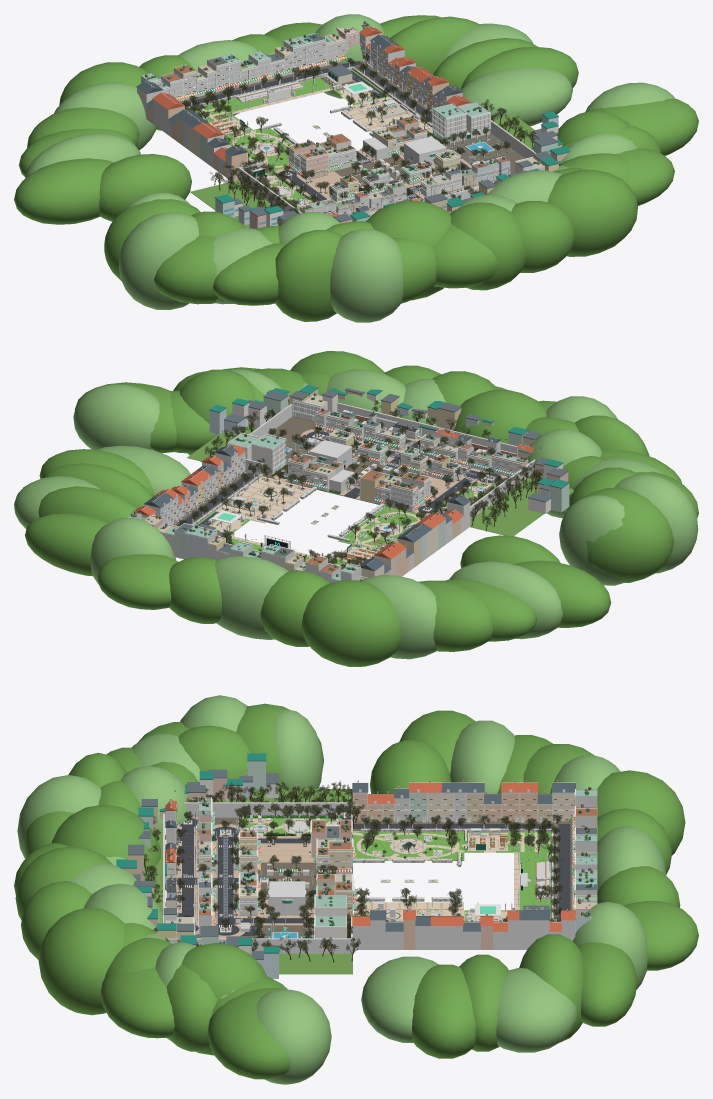
The model's file is town.glb.
3 renders of one model, top to bottom at view 1: azimuth 30°, elevation 25°; view 2: azimuth 150°, elevation 25°; view 3: azimuth 270°, elevation 25°, orthographic. The views are drawn at different scales.
Parts seen in each view (by area): view 1: TOWN_hills, TOWN_trees, TOWN_town_trim, TOWN_v2_pavers__tint_f6eee6, TOWN_town_lawn, TOWN_town_path, TOWN_town_roof, TOWN_town_asphalt, TOWN_town_roof_tile, TOWN_v2_grass, TOWN_town_roof_slate, TOWN_town_teal (+20 smaller); view 2: TOWN_hills, TOWN_trees, TOWN_town_trim, TOWN_v2_grass, TOWN_town_path, TOWN_town_roof, TOWN_town_white, TOWN_town_mint, TOWN_town_sky, TOWN_town_asphalt, TOWN_v2_pavers__tint_f6eee6, TOWN_town_roof_tile (+20 smaller); view 3: TOWN_hills, TOWN_trees, TOWN_town_asphalt, TOWN_town_trim, TOWN_town_lawn, TOWN_town_path, TOWN_v2_grass, TOWN_town_brick, TOWN_town_roof, TOWN_v2_pavers__tint_f6eee6, TOWN_town_roof_tile, TOWN_town_roof_slate (+21 smaller).
Part boxes in pixels (x1,y1,x2,y2): TOWN_hills: (14, 14, 698, 322); TOWN_trees: (147, 25, 560, 225); TOWN_town_trim: (146, 26, 544, 216); TOWN_v2_pavers__tint_f6eee6: (181, 60, 524, 188); TOWN_town_lawn: (189, 69, 388, 210); TOWN_town_path: (197, 88, 432, 206); TOWN_town_roof: (136, 21, 558, 222); TOWN_town_asphalt: (182, 61, 496, 201); TOWN_town_roof_tile: (152, 26, 470, 216); TOWN_v2_grass: (190, 113, 534, 228); TOWN_town_roof_slate: (136, 34, 463, 211); TOWN_town_teal: (174, 49, 570, 219); TOWN_hills: (14, 351, 698, 666); TOWN_trees: (130, 394, 543, 569); TOWN_town_trim: (141, 394, 533, 577); TOWN_v2_grass: (187, 427, 573, 535); TOWN_town_path: (210, 476, 490, 568); TOWN_town_roof: (131, 388, 568, 580); TOWN_town_white: (227, 392, 562, 513); TOWN_town_mint: (174, 396, 569, 570); TOWN_town_sky: (127, 407, 549, 581); TOWN_town_asphalt: (177, 422, 501, 526); TOWN_v2_pavers__tint_f6eee6: (173, 416, 509, 537); TOWN_town_roof_tile: (133, 429, 533, 559); TOWN_hills: (14, 695, 698, 1084); TOWN_trees: (142, 780, 589, 962); TOWN_town_asphalt: (167, 818, 570, 935); TOWN_town_trim: (165, 782, 575, 938); TOWN_town_lawn: (239, 817, 551, 921); TOWN_town_path: (244, 818, 550, 921); TOWN_v2_grass: (144, 789, 352, 974); TOWN_town_brick: (167, 817, 519, 938); TOWN_town_roof: (128, 769, 596, 959); TOWN_v2_pavers__tint_f6eee6: (176, 817, 571, 938); TOWN_town_roof_tile: (165, 783, 575, 931); TOWN_town_roof_slate: (165, 783, 575, 931).
Bounding box in the file's own units: 410 × 59.77 × 345.
86 materials, 4 textured.
